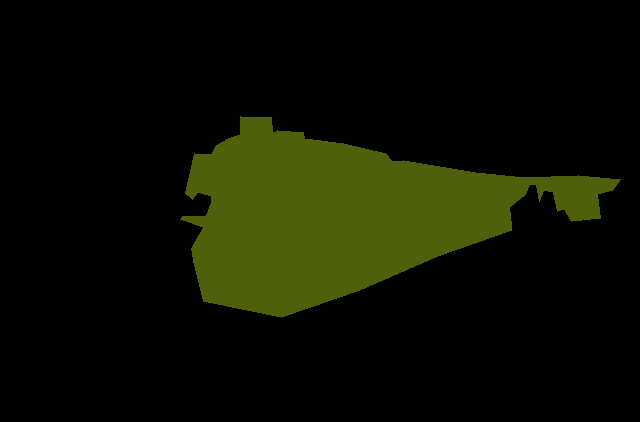Train: (180, 116, 621, 317)
